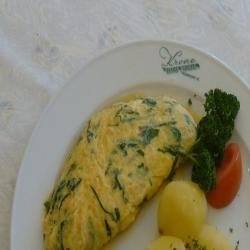omelette: (47, 93, 193, 250)
salad: (189, 84, 242, 194)
